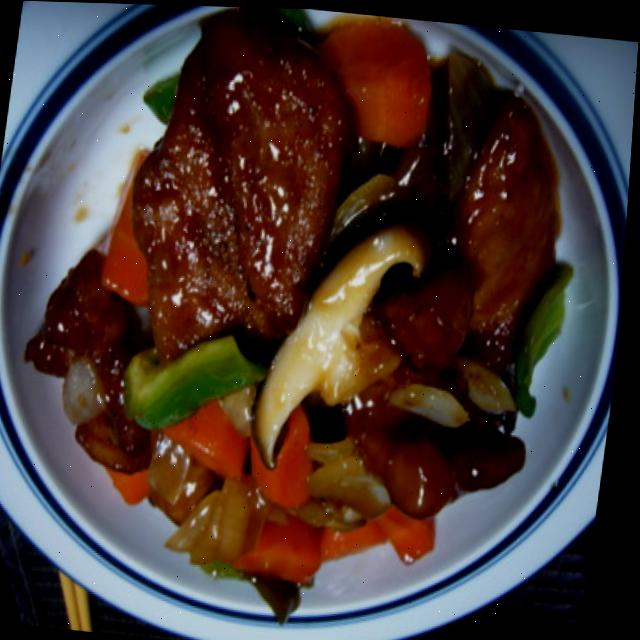猪肉菜式: (0, 1, 610, 640)
